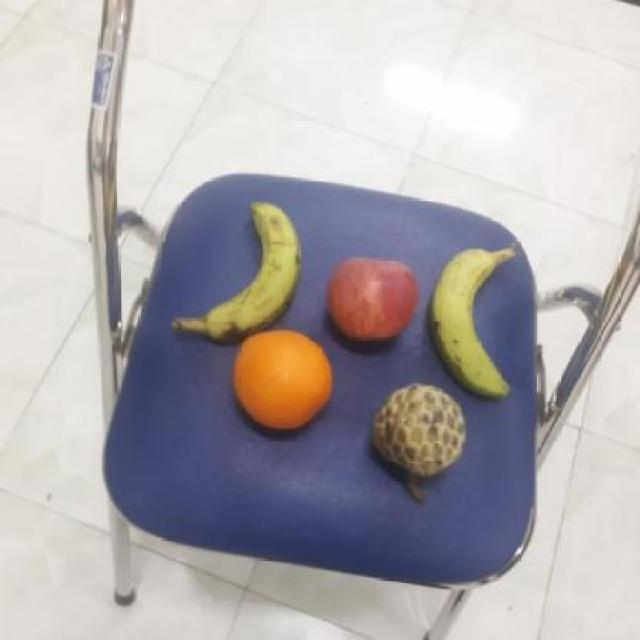apple: (322, 254, 423, 341)
banana: (195, 195, 303, 347), (429, 239, 514, 396)
oren: (230, 326, 332, 436)
sugar apple: (367, 380, 467, 474)
